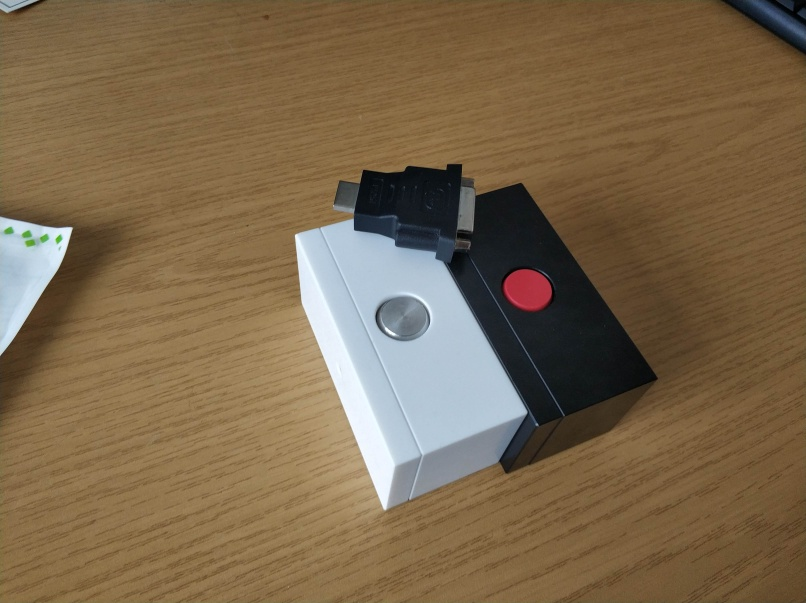black+black+red: (446, 180, 661, 477)
white+white+silver: (290, 215, 529, 516)
